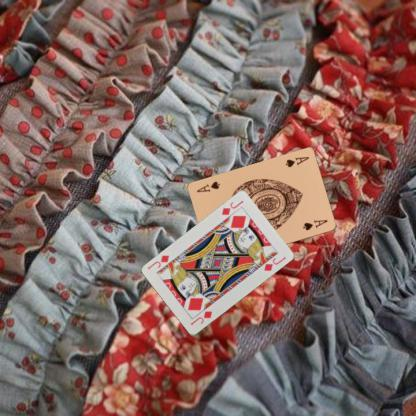As: (283, 154, 310, 169)
Jd: (219, 198, 244, 217), (188, 309, 213, 327)
